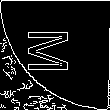M_E: (29, 31, 81, 79)
